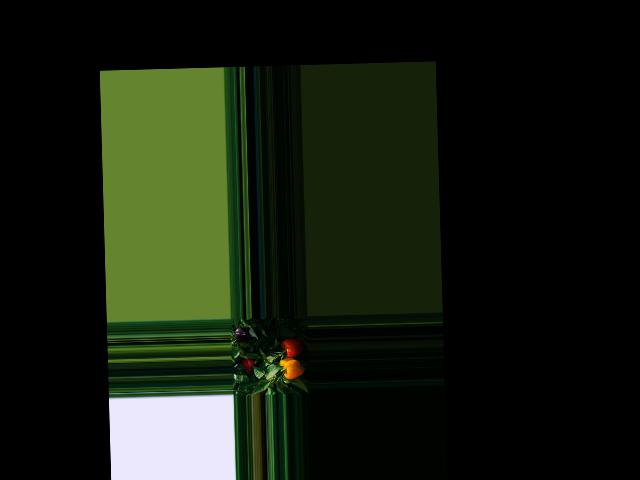bell_pepper: (278, 352, 304, 379)
